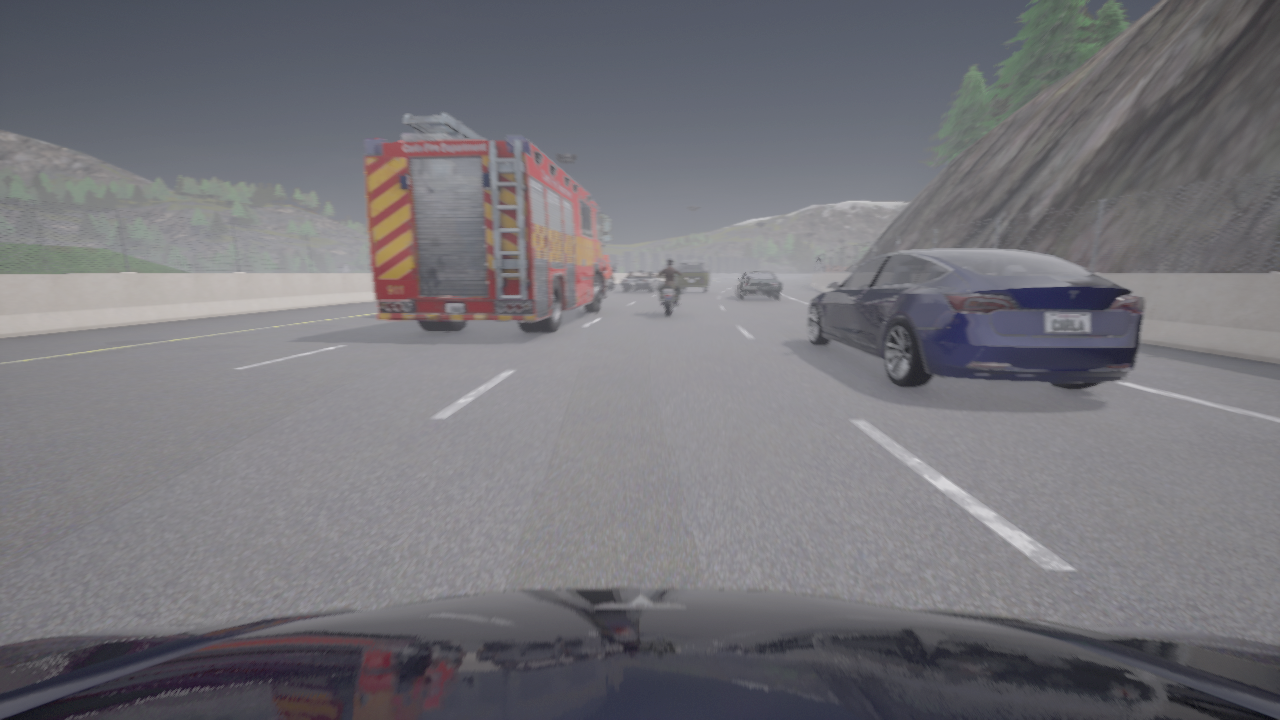cyclist: (0, 588, 1279, 719), (365, 114, 611, 332), (807, 249, 1144, 390), (736, 271, 781, 299), (677, 260, 711, 293), (661, 271, 682, 317), (621, 272, 660, 291), (603, 254, 616, 290)
